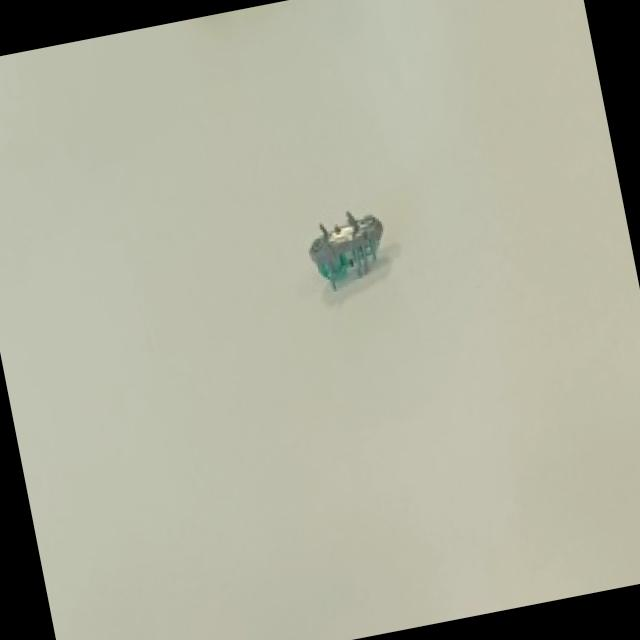5_NanoBug_GrisClaro: (281, 182, 414, 308)
